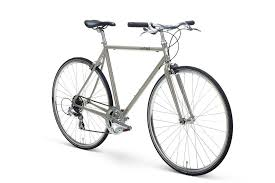bicycle: (49, 16, 235, 178)
